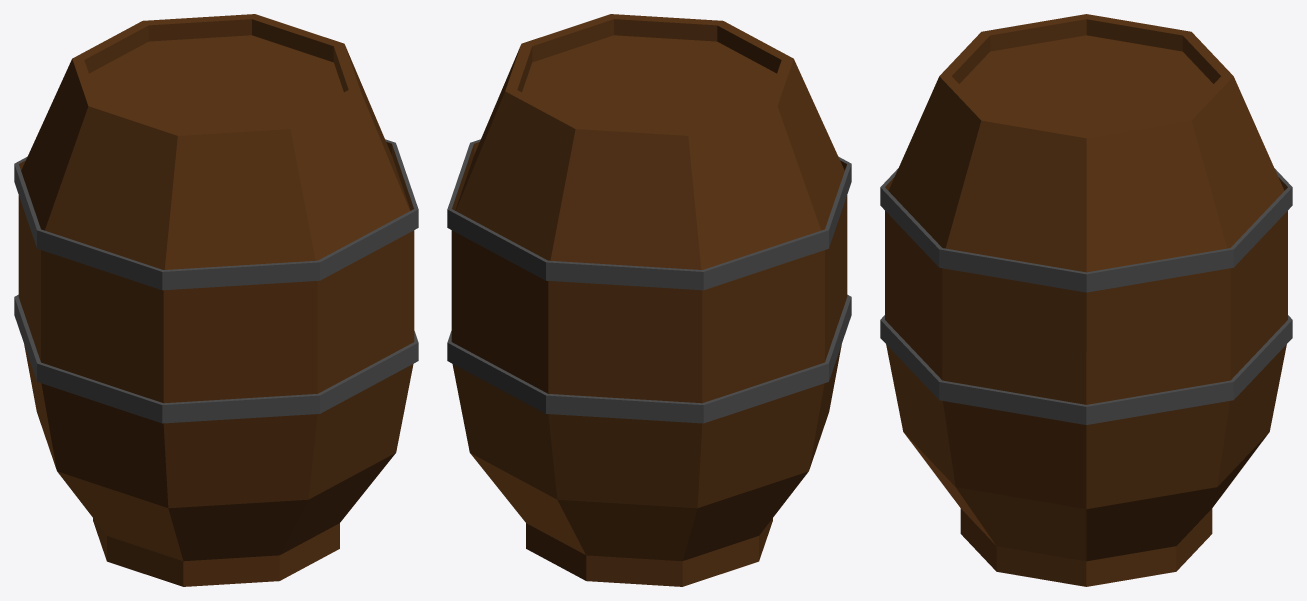
The model's file is Barrel01.fbx.
3 views of the same model, side by side, from view 1: azimuth 30°, elevation 25°; view 2: azimuth 150°, elevation 25°; view 3: azimuth 270°, elevation 25° (orthographic).
Visible parts, largest first — view 1: Cube.001; view 2: Cube.001; view 3: Cube.001.
Boxes of the visible parts, x1,y1,x2,y2 form: Cube.001: (14,14,418,586); Cube.001: (447,14,851,586); Cube.001: (880,14,1292,586).
Size of the model in its own units: 97.78 by 120 by 97.78.
